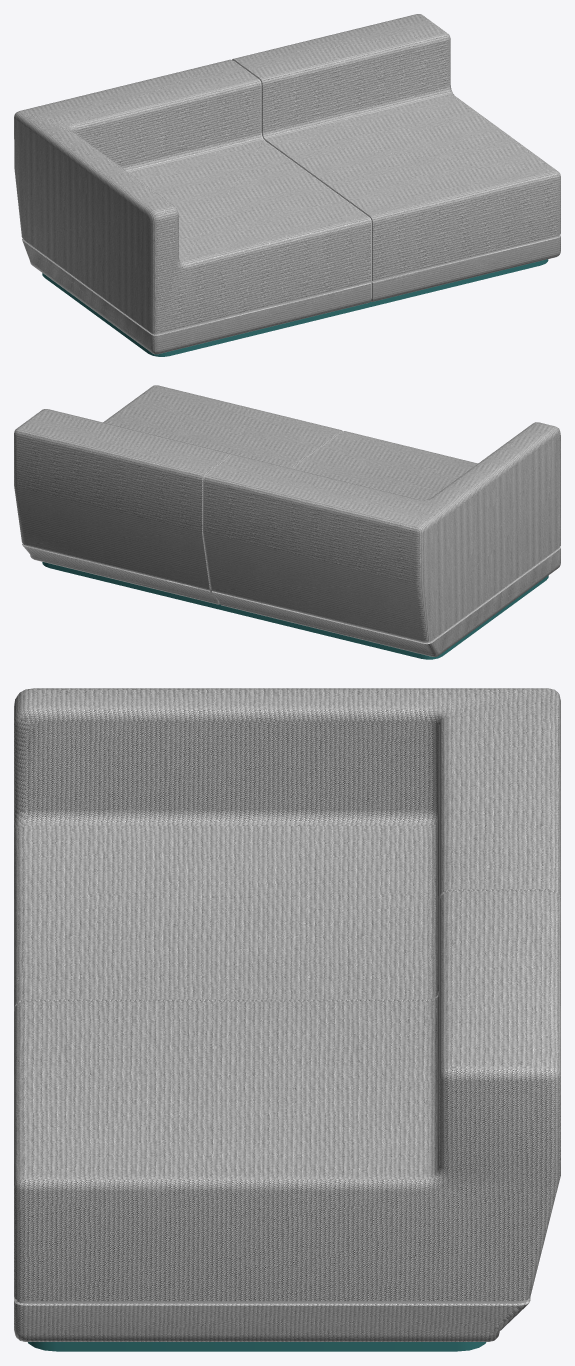
The model's file is D_Bench_102.fbx.
The picture shows the model from 3 angles, top to bottom: view 1: azimuth 30°, elevation 25°; view 2: azimuth 150°, elevation 25°; view 3: azimuth 270°, elevation 25°; orthographic projection. The views are drawn at different scales.
Parts seen in each view (by area): view 1: D_Bench_102; view 2: D_Bench_102; view 3: D_Bench_102.
Boxes of the visible parts, bbox=[...] form: D_Bench_102: bbox=[14, 14, 560, 356]; D_Bench_102: bbox=[14, 385, 560, 659]; D_Bench_102: bbox=[14, 688, 560, 1351].
Bounding box in the file's own units: 1.5 × 0.52 × 0.9.
